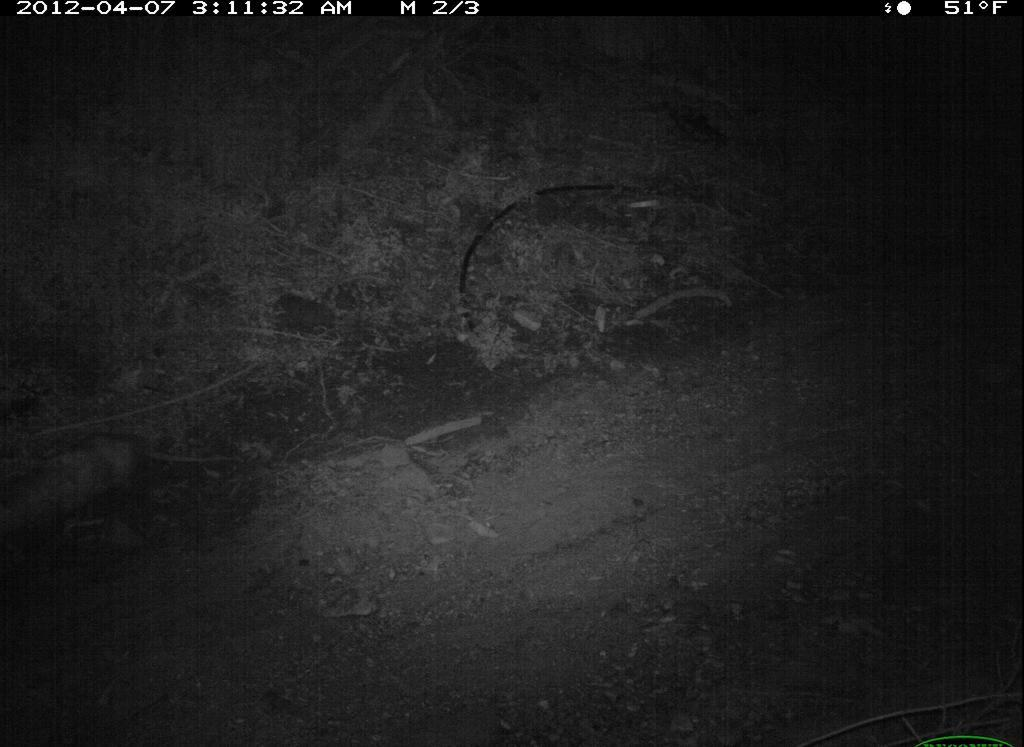opossum: (16, 423, 246, 550)
